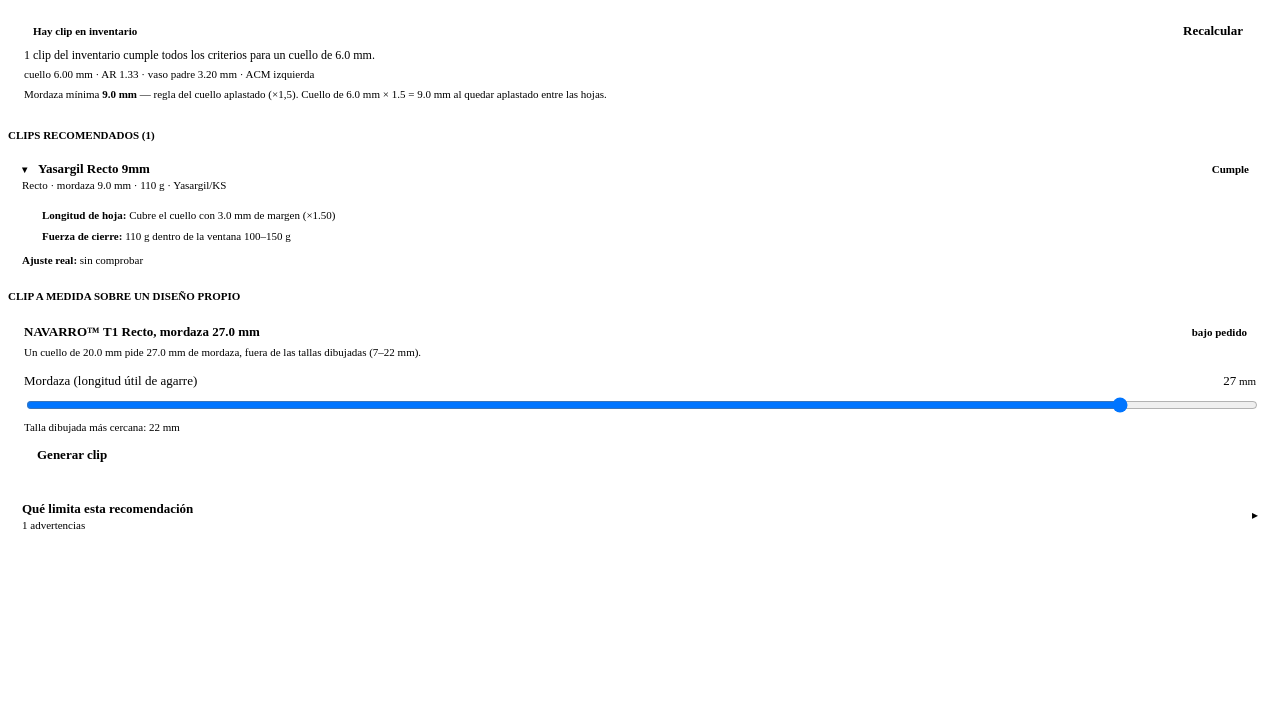
sizing a made-to-order clip › builds the clip at the chosen jaw
Click the button "Generar clip": {"x": 72, "y": 455} x1=24 y1=446 x2=120 y2=464
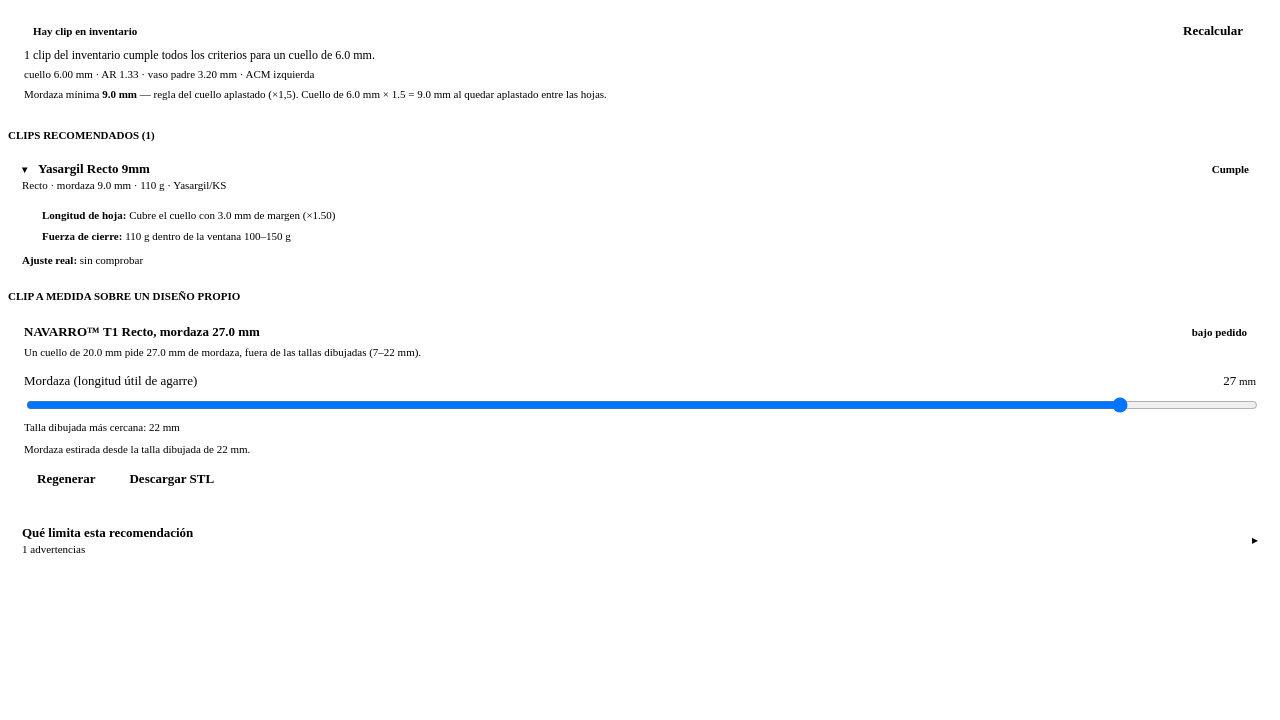
Expected: the text "Mordaza estirada desde la talla dibujada de 22 mm." is shown, x1=24 y1=443 x2=250 y2=455
